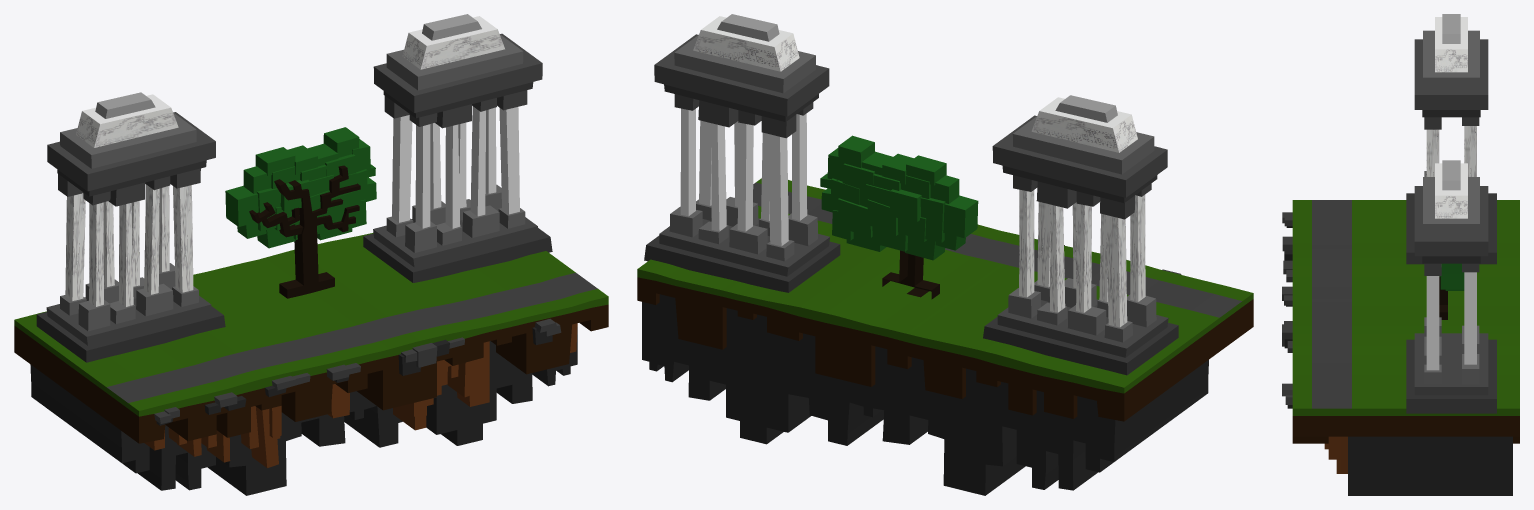
The model's file is Floating_City(OLD)_AD.FBX.
3 renders of one model, left to right at view 1: azimuth 30°, elevation 25°; view 2: azimuth 150°, elevation 25°; view 3: azimuth 270°, elevation 25°, orthographic. The views are drawn at different scales.
Visible parts, largest first — view 1: Box040, Box049, Box095, Box126, Box080, Box141, Box127, Box096, Box097, Box128, Box081, Box115 (+24 smaller); view 2: Box040, Box049, Box126, Box095, Box080, Box141, Box096, Box127, Box097, Box128, Box115, Box081 (+24 smaller); view 3: Box040, Box115, Box141, Box095, Box126, Box096, Box127, Box080, Box097, Box128, Box125, Box133 (+9 smaller).
Part boxes in pixels (box(x1,y1,x2,y2)): Box040: box(14, 233, 608, 495); Box049: box(225, 127, 376, 298); Box095: box(47, 112, 215, 191); Box126: box(373, 33, 542, 112); Box080: box(36, 306, 225, 362); Box141: box(363, 228, 552, 282); Box127: box(386, 34, 523, 90); Box096: box(60, 112, 196, 168); Box097: box(76, 94, 178, 147); Box128: box(402, 16, 504, 69); Box081: box(46, 289, 211, 345); Box115: box(373, 211, 537, 267); Box040: box(637, 178, 1253, 495); Box049: box(820, 135, 978, 299); Box126: box(654, 34, 829, 116); Box095: box(992, 115, 1167, 197); Box080: box(983, 317, 1178, 375); Box141: box(644, 235, 840, 292); Box096: box(1012, 116, 1154, 174); Box127: box(674, 35, 815, 93); Box097: box(1031, 97, 1137, 152); Box128: box(693, 16, 799, 71); Box115: box(659, 218, 829, 276); Box081: box(997, 299, 1168, 357); Box040: box(1282, 200, 1519, 495); Box115: box(1414, 333, 1488, 395); Box141: box(1406, 339, 1496, 413); Box095: box(1414, 39, 1488, 109); Box126: box(1414, 186, 1488, 256); Box096: box(1423, 30, 1479, 88); Box127: box(1423, 177, 1479, 234); Box080: box(1406, 193, 1496, 264); Box097: box(1435, 17, 1467, 72); Box128: box(1435, 163, 1467, 218); Box125: box(1426, 276, 1439, 370); Box133: box(1464, 272, 1476, 364).
Bounding box in the file's own units: 2306 × 1719 × 1096.
